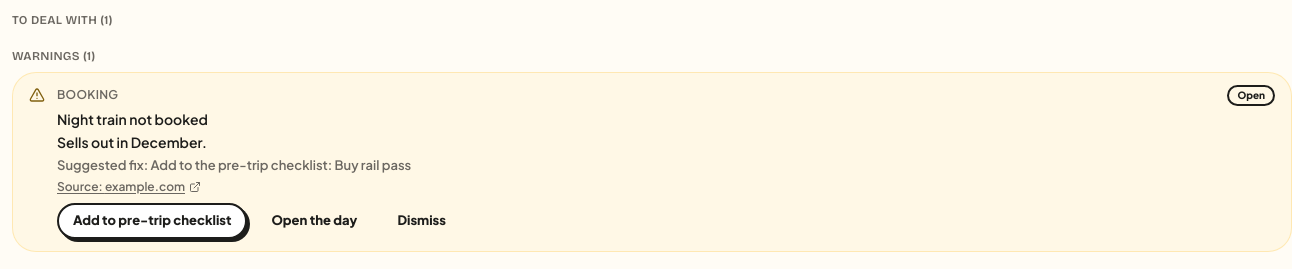
Test case: FindingList (R8, R10, spec 2026-10-18 A1, A2, A5) › an Open PRETRIP card shows one Add to pre-trip checklist button
Click the button with aria-label "Add to pre-trip checklist: Night train not booked" at (152,221), box [57,203,248,239]
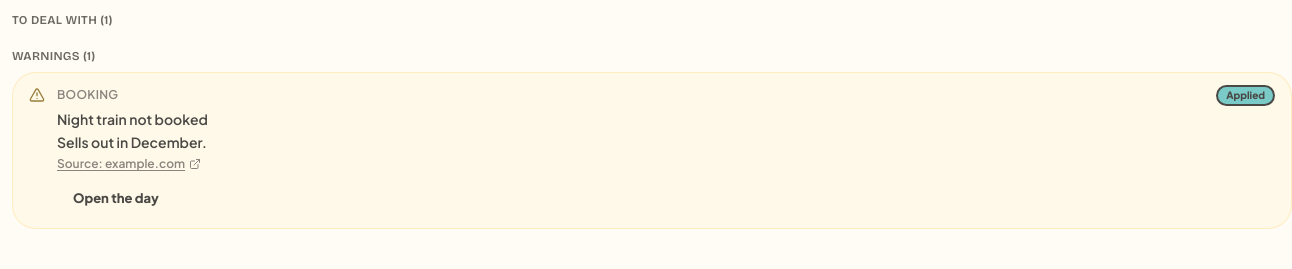
expect the text "Applied" is shown: met, box [1216,85,1275,106]
